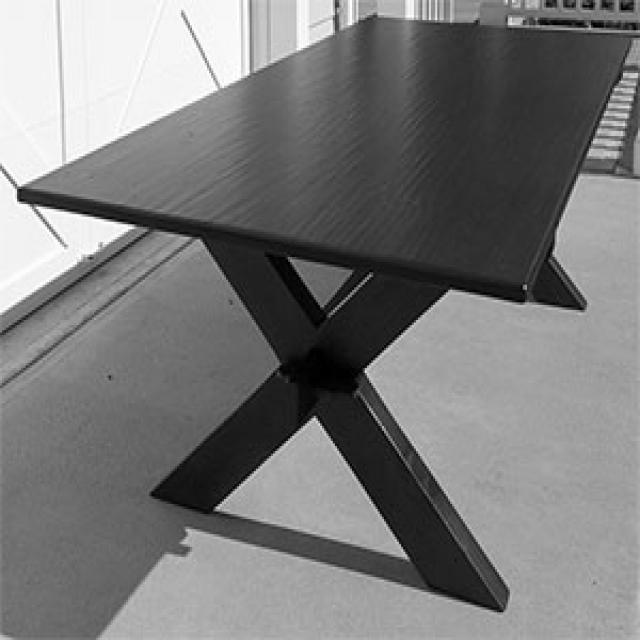table: (18, 16, 632, 612)
